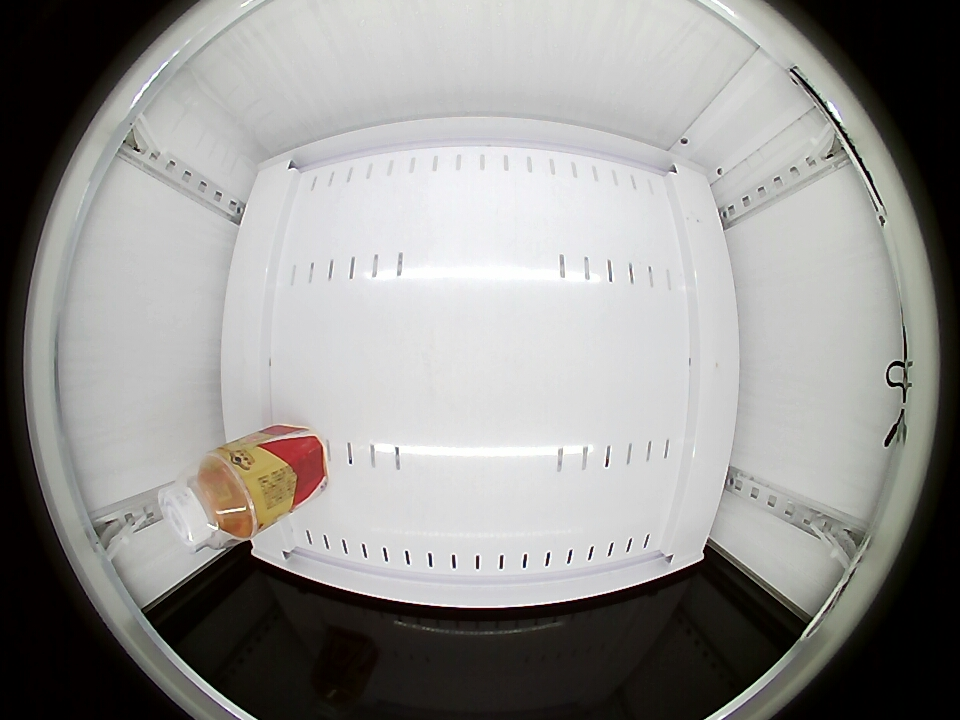dongpeng-b: (160, 449, 269, 550)
